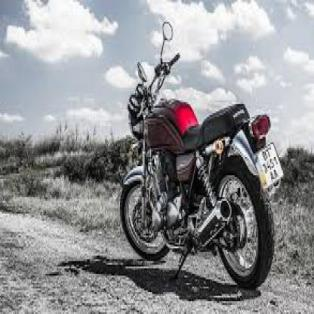Motocicleta: (118, 18, 281, 294)
